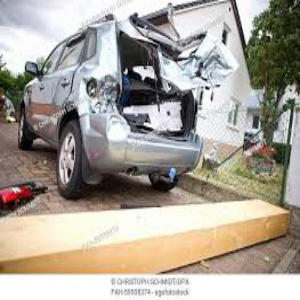bumper: (174, 220, 224, 279)
